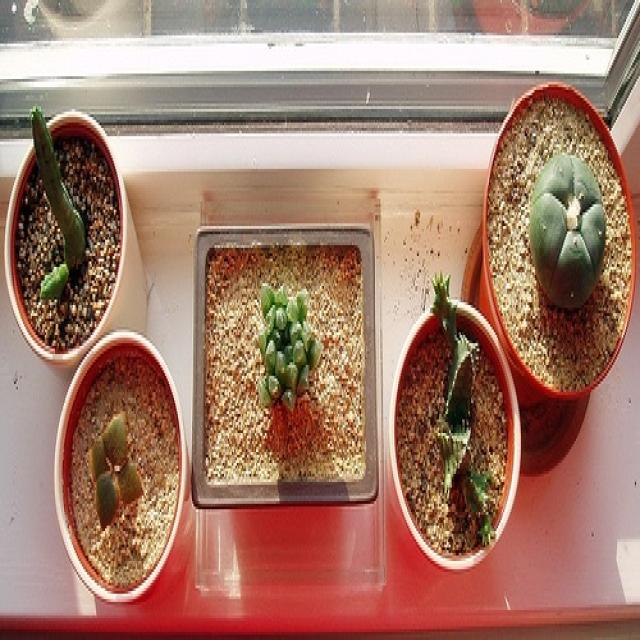pottedplant: (457, 79, 635, 474), (192, 221, 379, 509), (388, 272, 521, 572), (5, 103, 150, 376), (54, 327, 185, 602)
